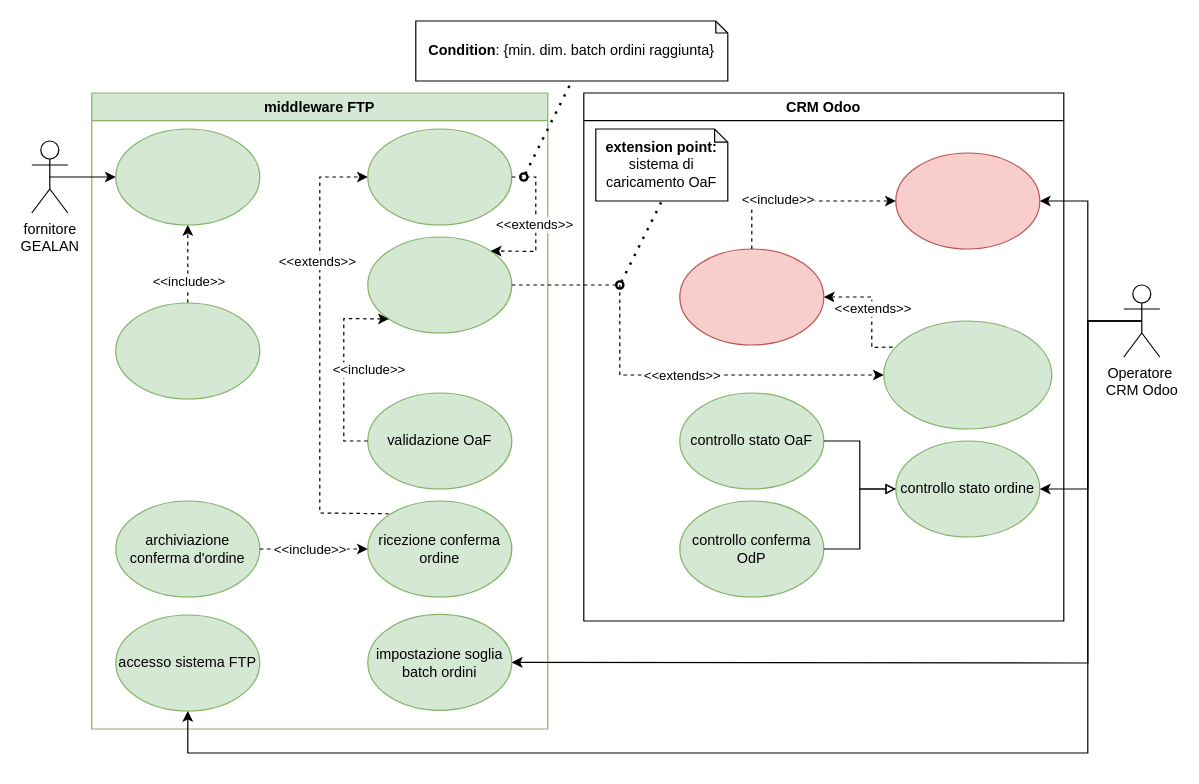
Some shapes in this 1199 by 784 pixel diagram are drawn without their labels. The shapes that lost their labels are listed below. From the top down, each one's centre as x and y in pixels, then its label:
At (187,176): "ricezione batch ordini".
At (439,176): "invio batch ordini".
At (967,200): "Programma Ordine di Produzione".
At (439,284): "caricamento OaF in coda batch".
At (751,296): "generazione bills of materials".
At (187,350): "notifica conferma ordine".
At (967,374): "impostare OdP come OaF sistema di caricamento OaF".
